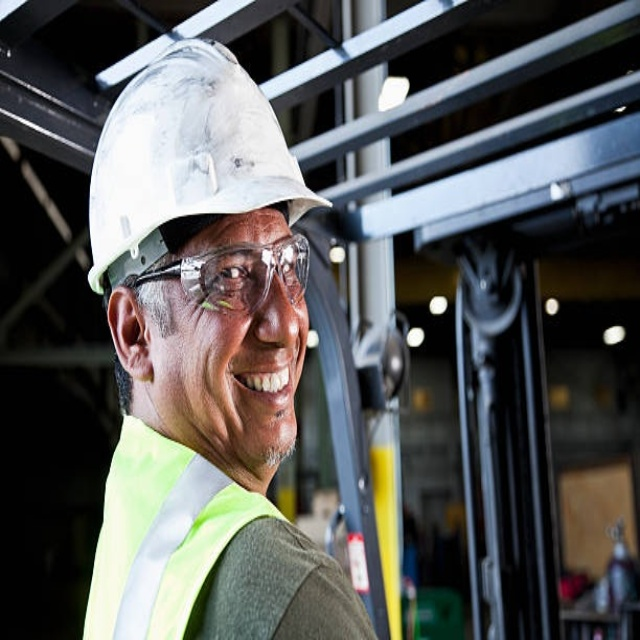Gafas: (126, 234, 310, 316)
Sin_mascara: (216, 347, 301, 435)
